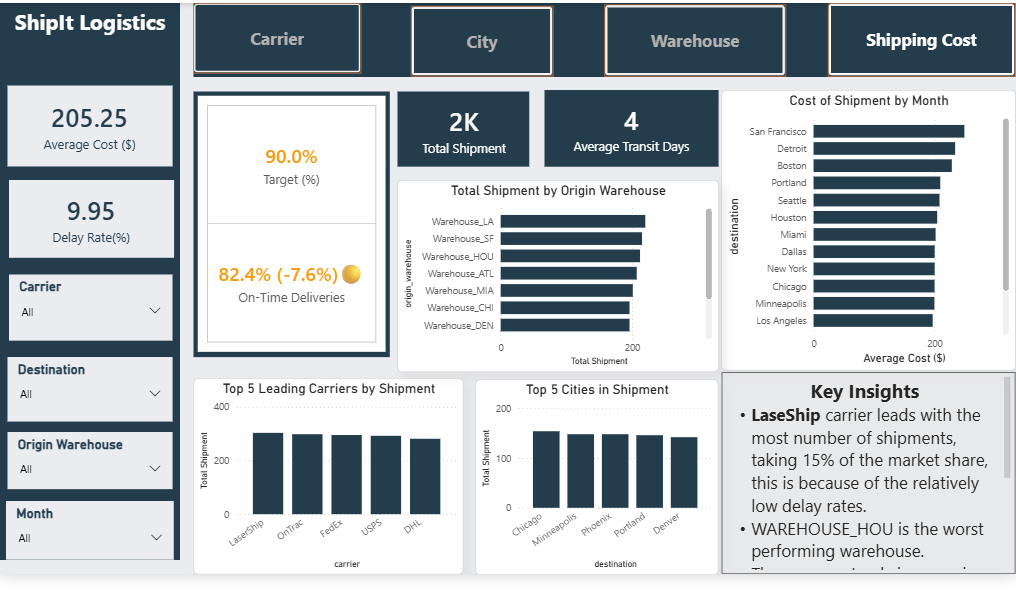

What the dashboard file says about the page in this screenshot:
{"tool":"powerbi","page":{"name":"Index","canvas":[1280,720],"ordinal":0},"visuals":[{"type":"textbox","box":[0,0,226.8,47.2],"z":0,"group":"g1"},{"type":"cardVisual","fields":{"Data":["logistics logistics_original.Total Shipment"]},"box":[500.8,111.5,166.3,94.5],"z":0},{"type":"cardVisual","fields":{"Data":["logistics logistics_original.Average Transit Days"]},"box":[686,109.6,219.2,96.4],"z":1000},{"type":"slicer","title":"Filter by Carrier","fields":{"Values":["logistics logistics_original.carrier"]},"box":[11.3,342,206,83.2],"z":1000,"group":"g1"},{"type":"slicer","title":"Filter by Destination","fields":{"Values":["logistics logistics_original.destination"]},"box":[9.4,446,207.9,81.3],"z":2000,"group":"g1"},{"type":"clusteredColumnChart","title":"Top 5 Leading Carriers by Shipment","fields":{"Y":["logistics logistics_original.Total Shipment"],"Category":["logistics logistics_original.carrier"]},"box":[243.8,472.4,340.2,247.6],"z":2000},{"type":"clusteredBarChart","title":"Cost of Shipment by Month","fields":{"Category":["logistics logistics_original.destination"],"Y":["logistics logistics_original.Average Cost  ($)"]},"box":[909,109.6,370.4,353.4],"z":3000},{"type":"slicer","title":"Filter by Month","fields":{"Values":["Date Table.Month"]},"box":[7.6,627.4,211.7,73.7],"z":3000,"group":"g1"},{"type":"group","id":"g1","title":"Group 1","box":[0,0,226.8,701.1],"z":4000},{"type":"slicer","title":"Filter by Warehouse","fields":{"Values":["logistics logistics_original.origin_warehouse"]},"box":[9.4,540.5,207.9,71.8],"z":4000,"group":"g1"},{"type":"cardVisual","fields":{"Data":["logistics logistics_original.Average Cost  ($)"]},"box":[9.6,103.9,207.9,102],"z":5000,"group":"g1"},{"type":"clusteredBarChart","title":"Total Shipment by Origin Warehouse","fields":{"Y":["logistics logistics_original.Total Shipment"],"Category":["logistics logistics_original.origin_warehouse"]},"box":[500.8,223,404.4,241.9],"z":5000},{"type":"actionButton","box":[518.2,3.8,179.5,88.8],"z":6000,"group":"g2"},{"type":"cardVisual","fields":{"Data":["logistics logistics_original.Delay Rate(%)"]},"box":[11.3,223,207.9,98.3],"z":6000,"group":"g1"},{"type":"clusteredColumnChart","title":"Top 5  Cities in Shipment","fields":{"Y":["logistics logistics_original.Total Shipment"],"Category":["logistics logistics_original.destination"]},"box":[599.1,474.3,306.1,245.7],"z":6000},{"type":"cardVisual","fields":{"Data":["logistics logistics_original.Target (%)","logistics logistics_original.On-Time Delivered Stats"]},"box":[243.8,111.5,247.6,334.5],"z":7000},{"type":"actionButton","box":[762,1.7,228.7,90.7],"z":8000,"group":"g2"},{"type":"textbox","box":[908.2,464.1,370.5,254.9],"z":8000},{"type":"group","id":"g2","title":"Group 2","box":[243.8,0.2,1036,92.6],"z":9000},{"type":"actionButton","box":[1043.6,0.2,236.2,92.6],"z":9000,"group":"g2"},{"type":"actionButton","box":[243.8,0.2,211.7,88.8],"z":10000,"group":"g2"}]}

Visuals, with their boxes in screenshot pixels (x1, y1, x2, y2):
textbox: crop(3, 0, 180, 37)
cardVisual - logistics logistics_original.Total Shipment: crop(395, 87, 525, 161)
cardVisual - logistics logistics_original.Average Transit Days: crop(540, 86, 711, 161)
"Filter by Carrier" slicer: crop(11, 268, 173, 333)
"Filter by Destination" slicer: crop(10, 349, 173, 413)
"Top 5 Leading Carriers by Shipment" clusteredColumnChart: crop(193, 370, 460, 564)
"Cost of Shipment by Month" clusteredBarChart: crop(714, 86, 1004, 362)
"Filter by Month" slicer: crop(9, 491, 174, 549)
"Group 1" group: crop(3, 0, 180, 549)
"Filter by Warehouse" slicer: crop(10, 423, 173, 479)
cardVisual - logistics logistics_original.Average Cost  ($): crop(10, 81, 173, 161)
"Total Shipment by Origin Warehouse" clusteredBarChart: crop(395, 175, 711, 364)
actionButton: crop(408, 3, 549, 72)
cardVisual - logistics logistics_original.Delay Rate(%): crop(11, 175, 174, 252)
"Top 5  Cities in Shipment" clusteredColumnChart: crop(472, 371, 711, 564)
cardVisual - logistics logistics_original.Target (%) x logistics logistics_original.On-Time Delivered Stats: crop(193, 87, 387, 349)
actionButton: crop(599, 1, 778, 72)
textbox: crop(714, 363, 1004, 563)
"Group 2" group: crop(193, 0, 1004, 73)
actionButton: crop(820, 0, 1004, 73)
actionButton: crop(193, 0, 359, 70)
